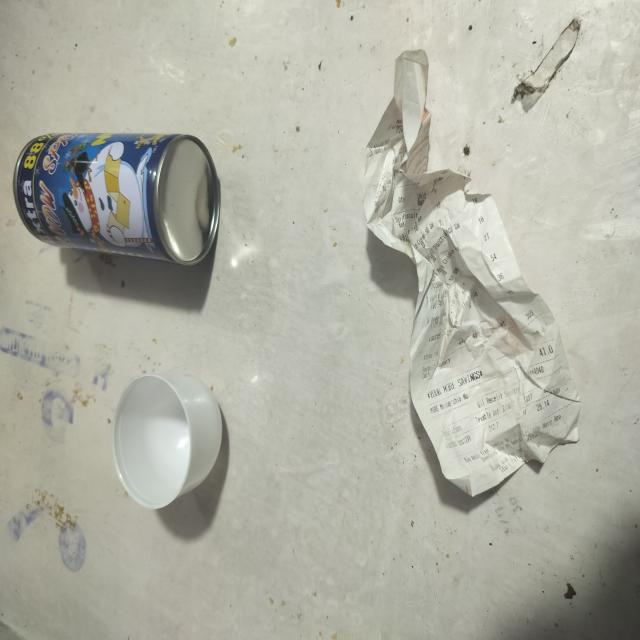metal: (14, 106, 228, 285)
paper: (330, 49, 605, 544)
plastic: (86, 364, 273, 562)
